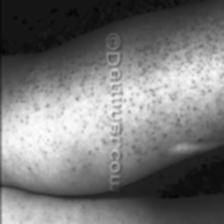Non-Cancerous Skin Condition: (132, 38, 198, 119), (218, 83, 224, 121)
